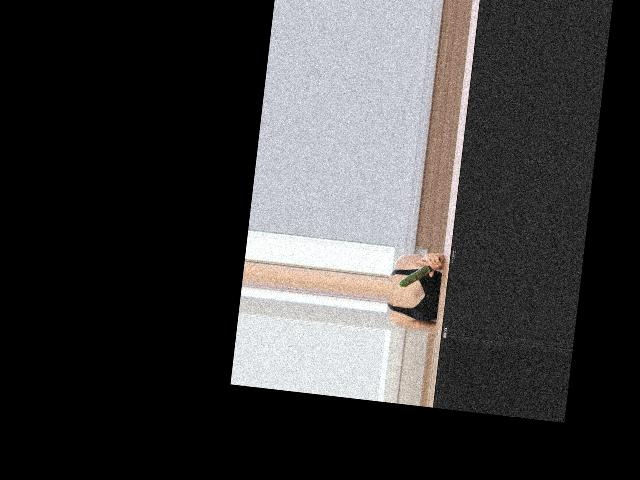cucumber: (398, 253, 441, 291)
